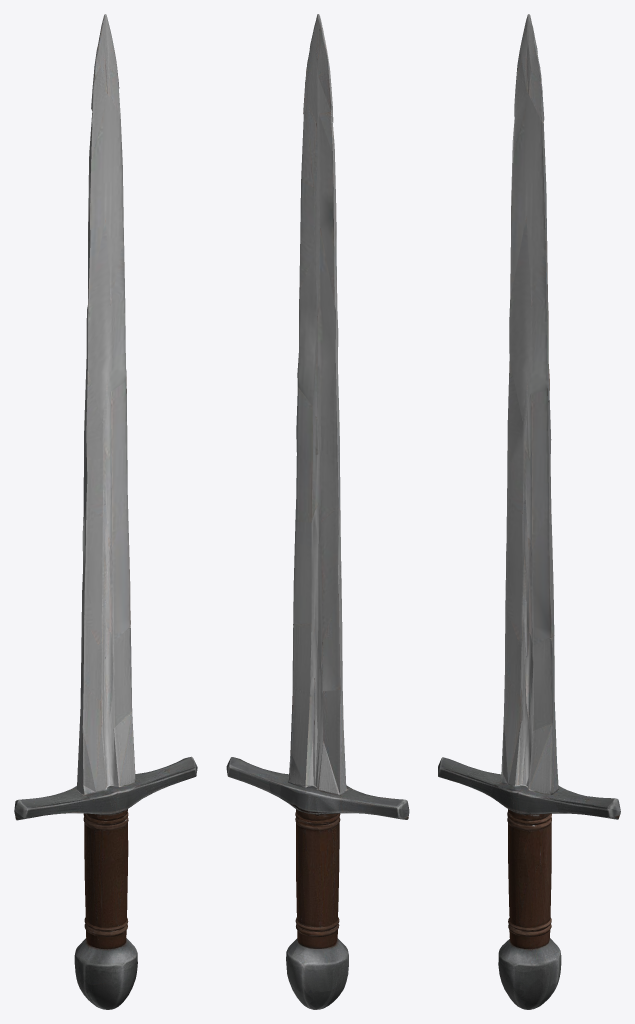
Rendered from arming_sword_p2_w0.glb.
3 renders of one model, left to right at view 1: azimuth 30°, elevation 25°; view 2: azimuth 150°, elevation 25°; view 3: azimuth 330°, elevation 25°, orthographic.
Parts seen in each view (by area): view 1: arming_sword_p2_w0; view 2: arming_sword_p2_w0; view 3: arming_sword_p2_w0.
Boxes of the visible parts, left/top/right/bottom form: arming_sword_p2_w0: left=14, top=14, right=197, bottom=1009; arming_sword_p2_w0: left=226, top=14, right=409, bottom=1009; arming_sword_p2_w0: left=438, top=14, right=620, bottom=1009.
Bounding box in the file's own units: 0.1827 × 0.95 × 0.0561.
1 material, 1 textured.
